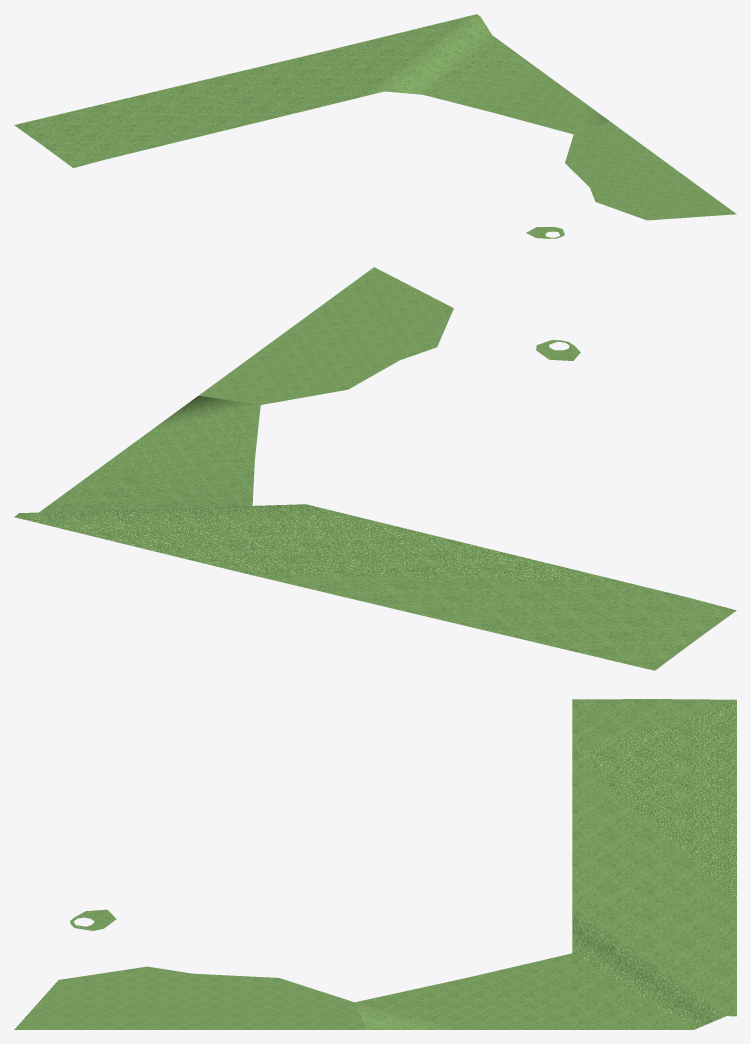
Rendered from kd_stage_135c43_4_153_bounded.glb.
3 views of the same model, one above another, from view 1: azimuth 30°, elevation 25°; view 2: azimuth 150°, elevation 25°; view 3: azimuth 270°, elevation 25° (orthographic). The views are drawn at different scales.
Parts seen in each view (by area): view 1: kd_stage_135c43_4_153_bounded; view 2: kd_stage_135c43_4_153_bounded; view 3: kd_stage_135c43_4_153_bounded.
Boxes of the visible parts, <box> form: kd_stage_135c43_4_153_bounded: <box>14,14,736,238</box>; kd_stage_135c43_4_153_bounded: <box>14,267,736,670</box>; kd_stage_135c43_4_153_bounded: <box>14,699,736,1029</box>.
Size of the model in its own units: 9.89 by 0.2602 by 9.62.
Materials: 1 (1 with a texture image).
